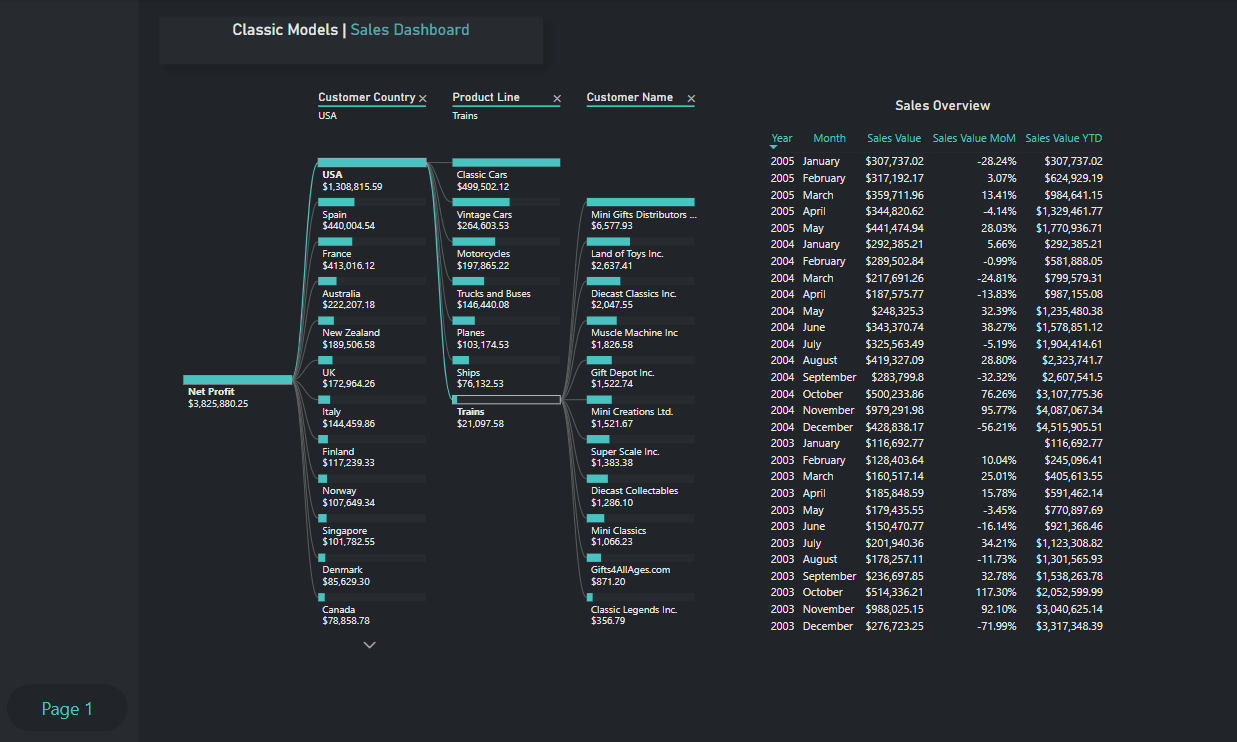

The dashboard page shown, as its layout file describes it:
{"tool":"powerbi","page":{"name":"Sales Overview - Page 2","canvas":[1500,900],"ordinal":1},"visuals":[{"type":"shape","box":[0,0,170,900.5],"z":0},{"type":"decompositionTreeVisual","fields":{"Analyze":["classicmodels sales_data_for_poer_bi.Net Profit"],"ExplainBy":["classicmodels sales_data_for_poer_bi.customer_country","classicmodels sales_data_for_poer_bi.productLine","classicmodels sales_data_for_poer_bi.customerName"]},"box":[194.5,93.5,674.1,710.3],"z":1000},{"type":"tableEx","title":"Sales Overview","fields":{"Values":["classicmodels sales_data_for_poer_bi.orderDate.Variation.Date Hierarchy.Year","classicmodels sales_data_for_poer_bi.orderDate.Variation.Date Hierarchy.Month","Sum(classicmodels sales_data_for_poer_bi.sales_value)","classicmodels sales_data_for_poer_bi.sales_value MoM%","classicmodels sales_data_for_poer_bi.sales_value YTD"]},"box":[919.9,117.6,440.4,665.1],"z":2000},{"type":"actionButton","box":[10.6,826.4,146.3,57.3],"z":3000},{"type":"textbox","box":[194.5,21.1,463,57.3],"z":3001}]}

Visuals, with their boxes on the page's 1500x900 design canvas (x1, y1, x2, y2). These are canvas units, not pixel positions in the 1237x742 screenshot, which may show the page scaled, cropped or inside an application window:
shape: box=[0, 0, 170, 900]
decompositionTreeVisual - classicmodels sales_data_for_poer_bi.Net Profit x classicmodels sales_data_for_poer_bi.customer_country: box=[194, 94, 869, 804]
"Sales Overview" tableEx: box=[920, 118, 1360, 783]
actionButton: box=[11, 826, 157, 884]
textbox: box=[194, 21, 658, 78]
